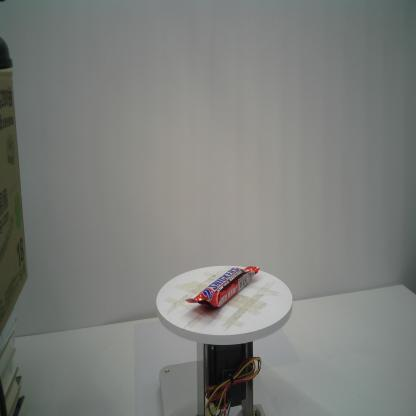Chocolate: (184, 265, 261, 310)
